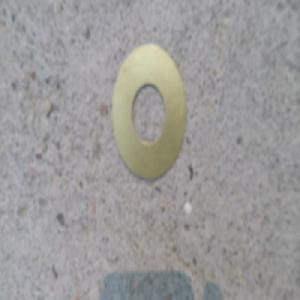Washer: (115, 62, 187, 190)
